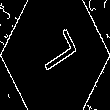L_SW: (29, 29, 81, 81)
